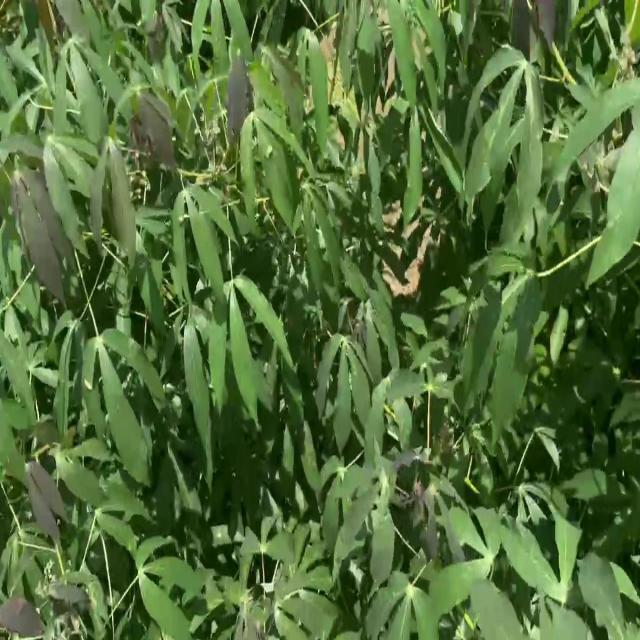Mosca: (253, 356, 279, 385), (80, 371, 103, 402), (261, 137, 287, 163), (279, 559, 300, 589), (203, 372, 225, 399)
